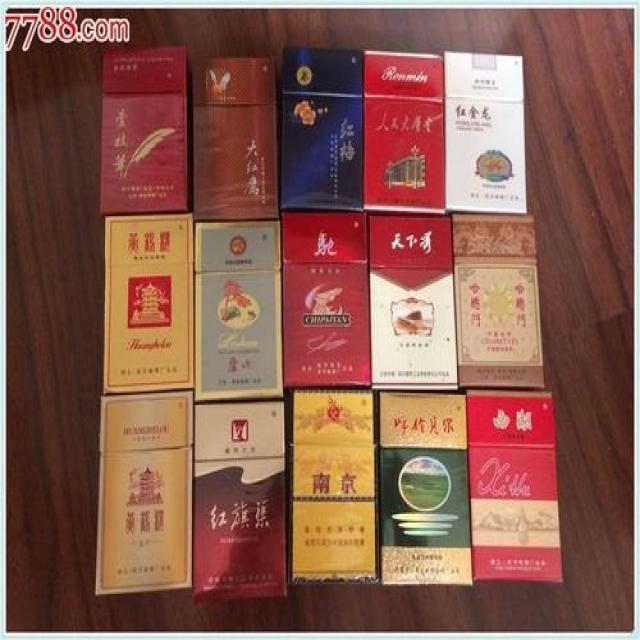box: (95, 391, 195, 594), (192, 400, 287, 601), (378, 390, 474, 586), (283, 388, 379, 582), (467, 390, 563, 584), (452, 213, 544, 390), (193, 220, 283, 400), (104, 213, 195, 391), (369, 213, 458, 391), (283, 209, 371, 388), (99, 48, 193, 211), (191, 58, 278, 218), (362, 51, 447, 214), (280, 46, 364, 209), (444, 53, 529, 214)
